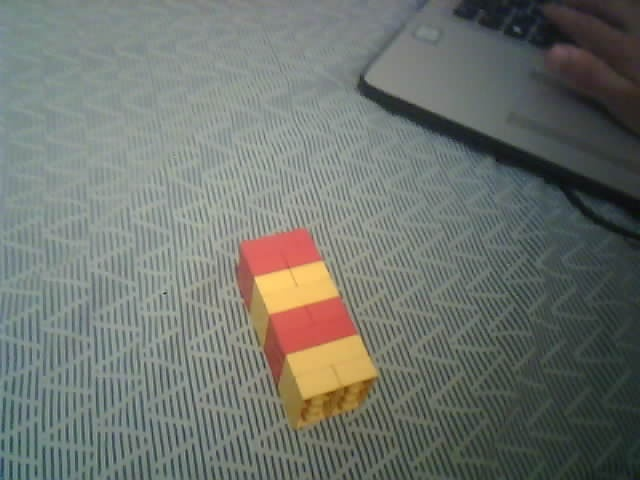lego: (235, 228, 380, 430)
